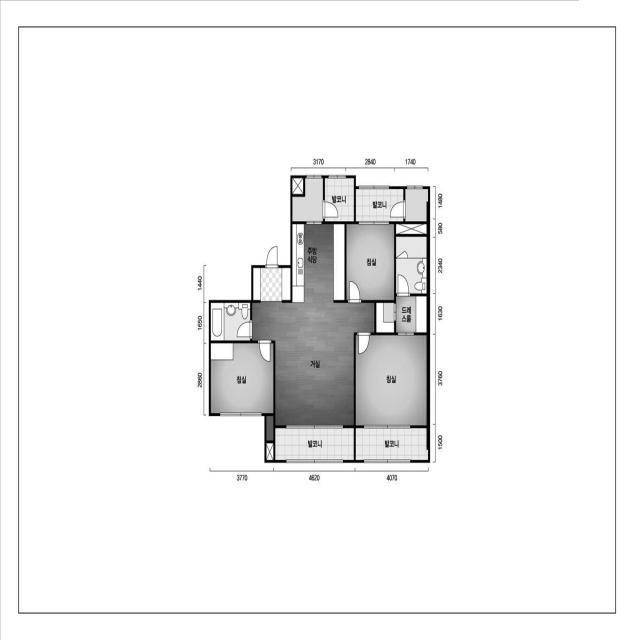space_balconi: (275, 428, 354, 460), (356, 428, 428, 460), (356, 189, 404, 221), (325, 178, 354, 221)
space_bedroom: (356, 335, 427, 426), (211, 343, 273, 414), (346, 224, 394, 300)
space_dressroom: (396, 296, 427, 333), (376, 303, 394, 333)
space_front: (253, 268, 291, 303)
space_kitchen: (292, 224, 345, 303)
space_living_room: (252, 303, 375, 425)
space_other: (292, 178, 323, 222), (405, 189, 428, 221), (396, 224, 427, 234), (266, 416, 274, 441), (292, 178, 304, 194), (266, 443, 274, 460)
space_toilet: (396, 236, 427, 294), (211, 303, 250, 341)
